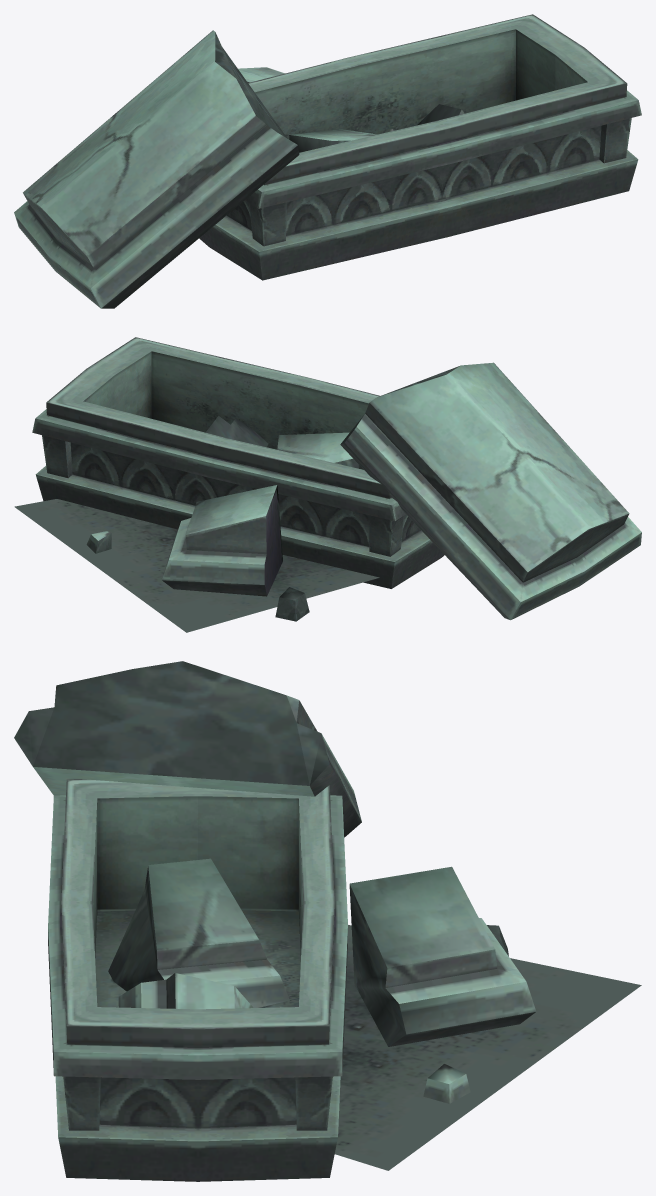
Rendered from crypt_tomb_opened05.fbx.
The picture shows the model from 3 angles, top to bottom: view 1: azimuth 30°, elevation 25°; view 2: azimuth 150°, elevation 25°; view 3: azimuth 270°, elevation 25°; orthographic projection. The views are drawn at different scales.
Parts seen in each view (by area): view 1: crypt_tomb_opened05-0; view 2: crypt_tomb_opened05-0; view 3: crypt_tomb_opened05-0.
Part boxes in pixels (x1,y1,x2,y2): crypt_tomb_opened05-0: [14, 14, 641, 308]; crypt_tomb_opened05-0: [14, 337, 641, 632]; crypt_tomb_opened05-0: [14, 661, 641, 1181].
Size of the model in its own units: 4 by 1.31 by 2.83.
